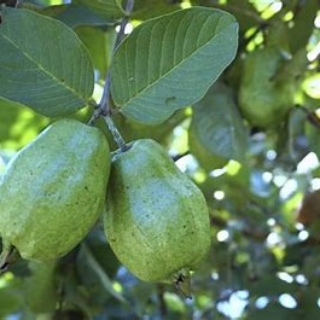oi: (102, 140, 209, 296), (3, 126, 107, 267)
